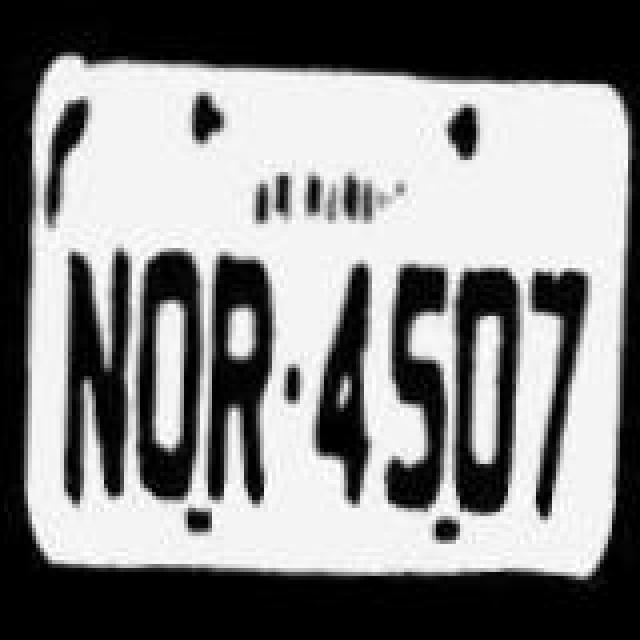4: (306, 242, 382, 506)
5: (376, 250, 448, 514)
7: (520, 236, 592, 524)
N: (54, 238, 138, 514)
O: (446, 240, 522, 520), (128, 248, 208, 508)
R: (196, 250, 284, 510)
